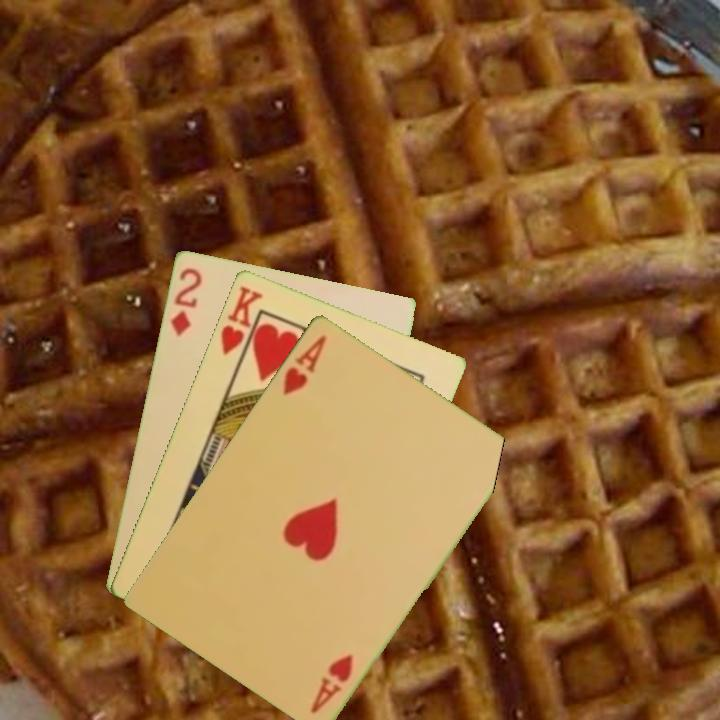2d: (166, 264, 204, 338)
Ah: (279, 330, 329, 398), (307, 649, 356, 716)
Kh: (217, 281, 265, 367)
